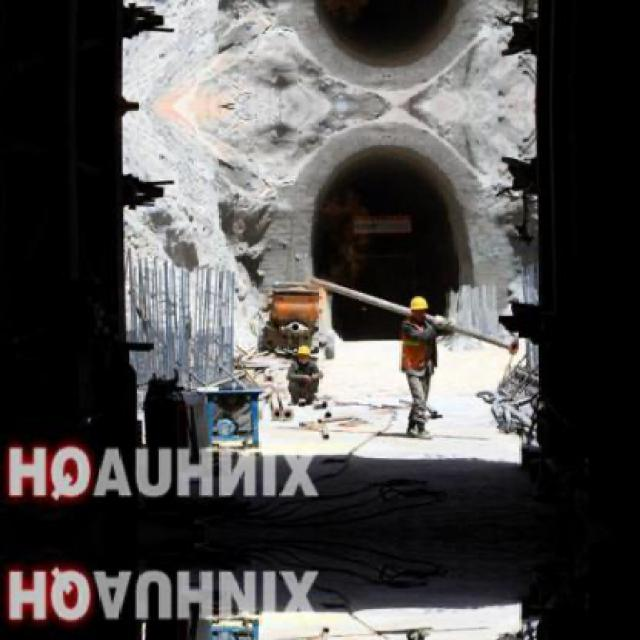2: (402, 293, 443, 440), (283, 346, 325, 406)
helmet: (409, 293, 431, 321), (296, 342, 312, 364)
